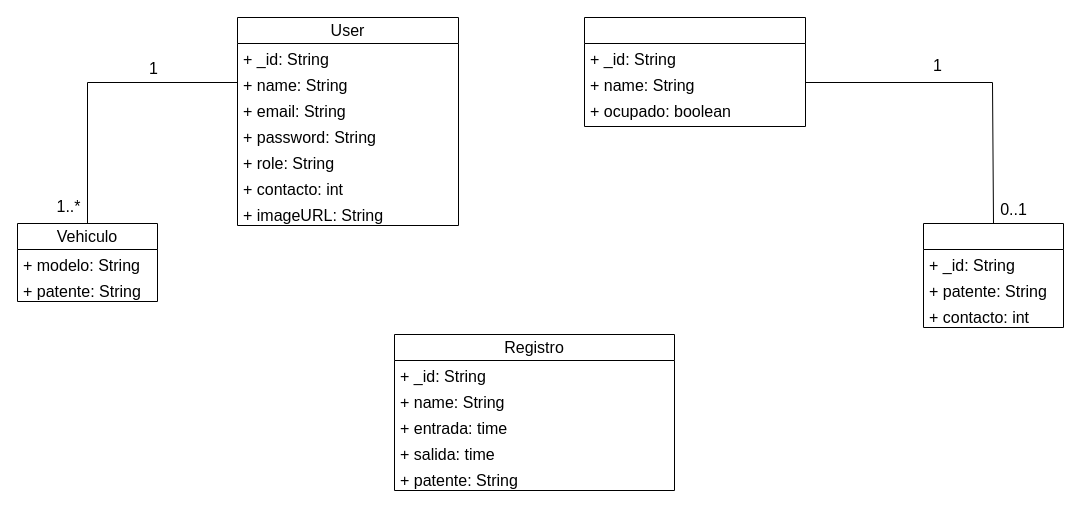
Image size: 1081x511. Some labels were removed from this diagram. The shapes that lost their labels are listed below. From the top down, each one's box as (x1, y1, x2, y2) in pixels, then its label:
(584, 16, 806, 126): Estacionamiento
(922, 222, 1064, 328): userData
